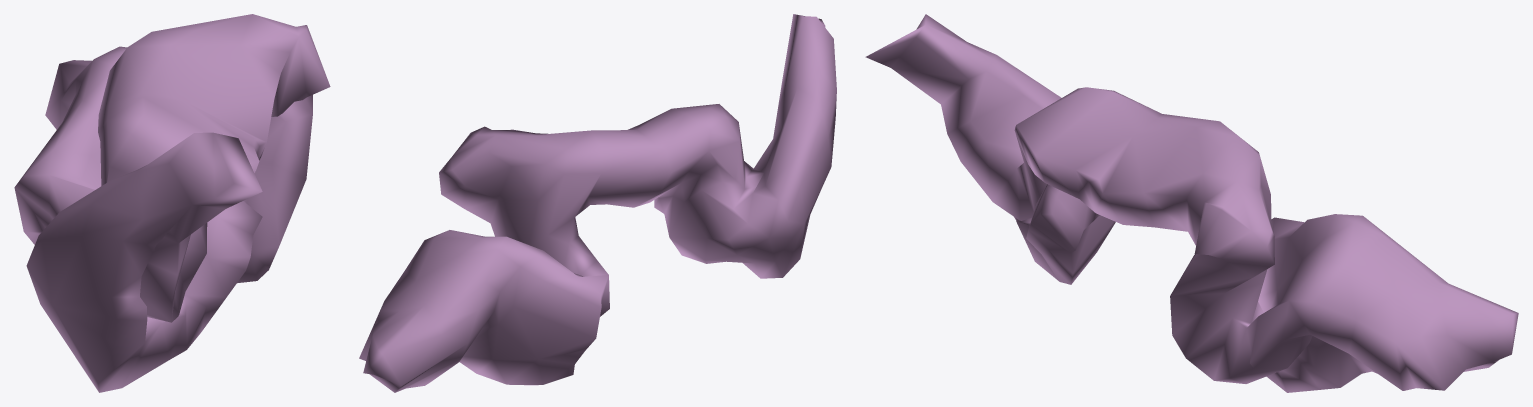
3 views of the same model, side by side, from view 1: azimuth 30°, elevation 25°; view 2: azimuth 150°, elevation 25°; view 3: azimuth 270°, elevation 25° (orthographic). The views are drawn at different scales.
Parts seen in each view (by area): view 1: 左侧中央前沟下部; view 2: 左侧中央前沟下部; view 3: 左侧中央前沟下部.
Boxes of the visible parts, x1,y1,x2,y2 form: 左侧中央前沟下部: [14, 14, 330, 392]; 左侧中央前沟下部: [359, 14, 836, 392]; 左侧中央前沟下部: [865, 14, 1518, 392].
Size of the model in its own units: 0.0389 by 0.0373 by 0.0706.
